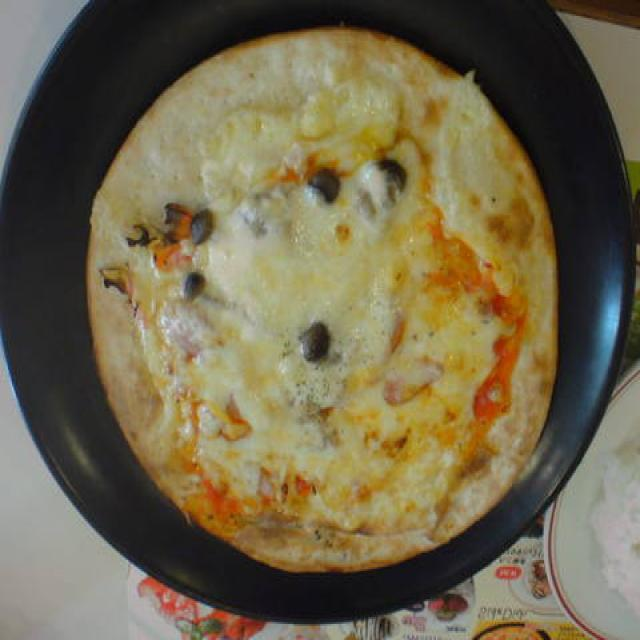Pizza: (82, 22, 574, 580)
